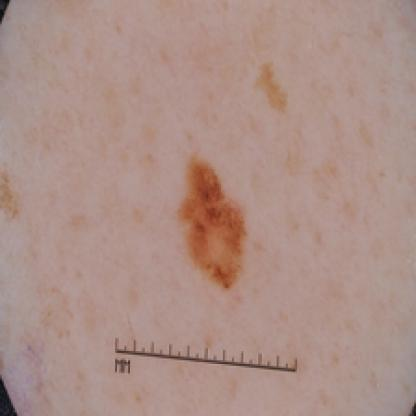malignant: (174, 147, 276, 299)
